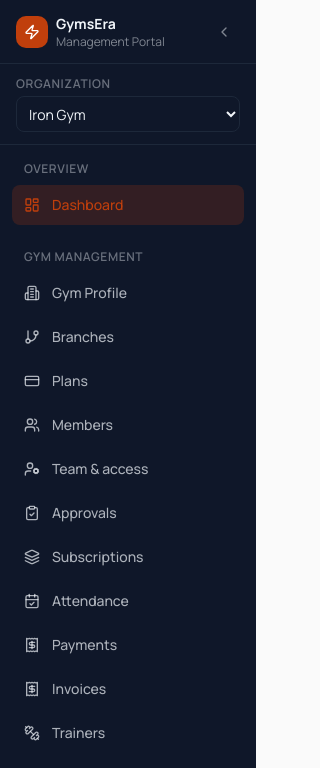
Test: Organization switcher (Prompt 3B) › every permission-gated entry follows the selected organization, not the most senior
This screenshot has width=320, height=768.
Expected: the link "Dashboard" is shown, 12,185 -> 244,225
Select "Fit Hub" in the dropdown labelled "Organization" at (128, 114), box 16,96 -> 240,132
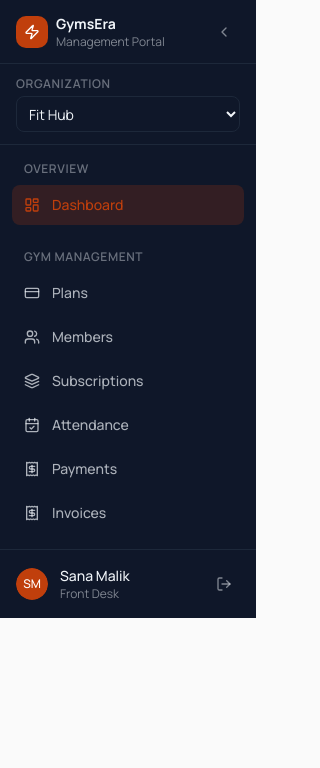
Expected: the link "Dashboard" is shown, 12,185 -> 244,225
Expected: the link "Team & access" no longer shows "Team & access"
Expected: the link "Branches" no longer shows "Branches"
